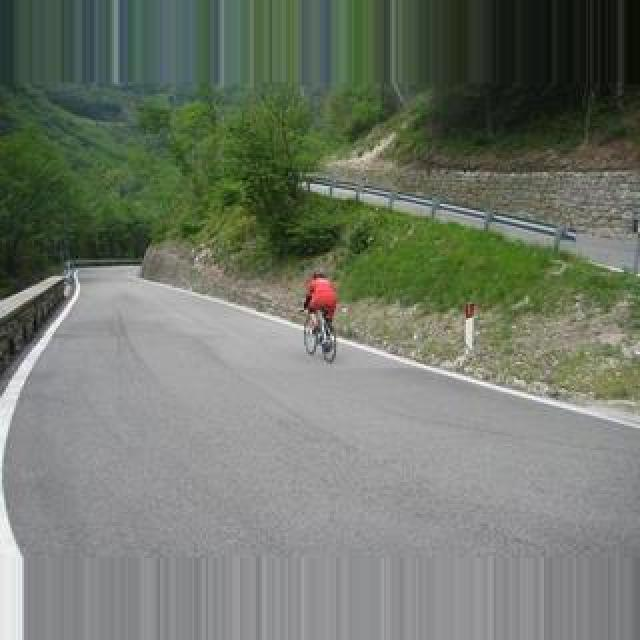MC-Bike: (302, 268, 340, 344)
Person: (303, 305, 337, 361)
